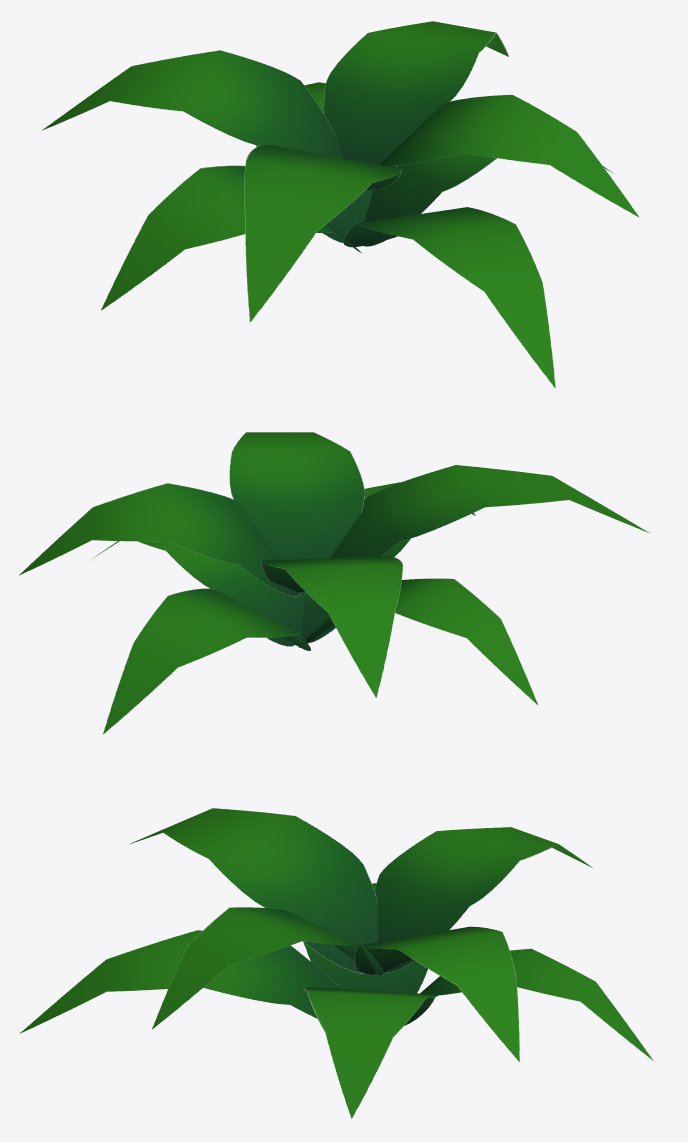
Rendered from Fern.fbx.
3 views of the same model, one above another, from view 1: azimuth 30°, elevation 25°; view 2: azimuth 150°, elevation 25°; view 3: azimuth 270°, elevation 25° (orthographic). The views are drawn at different scales.
Visible parts, largest first — view 1: Green Plant; view 2: Green Plant; view 3: Green Plant.
Boxes of the visible parts, x1,y1,x2,y2 form: Green Plant: [42, 21, 639, 388]; Green Plant: [19, 432, 649, 734]; Green Plant: [20, 808, 653, 1118].
Size of the model in its own units: 1343 by 387 by 1476.
